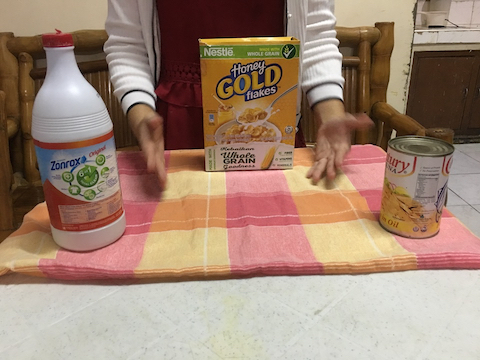bottle: (29, 30, 135, 254)
box: (197, 32, 306, 175)
can: (378, 133, 460, 240)
